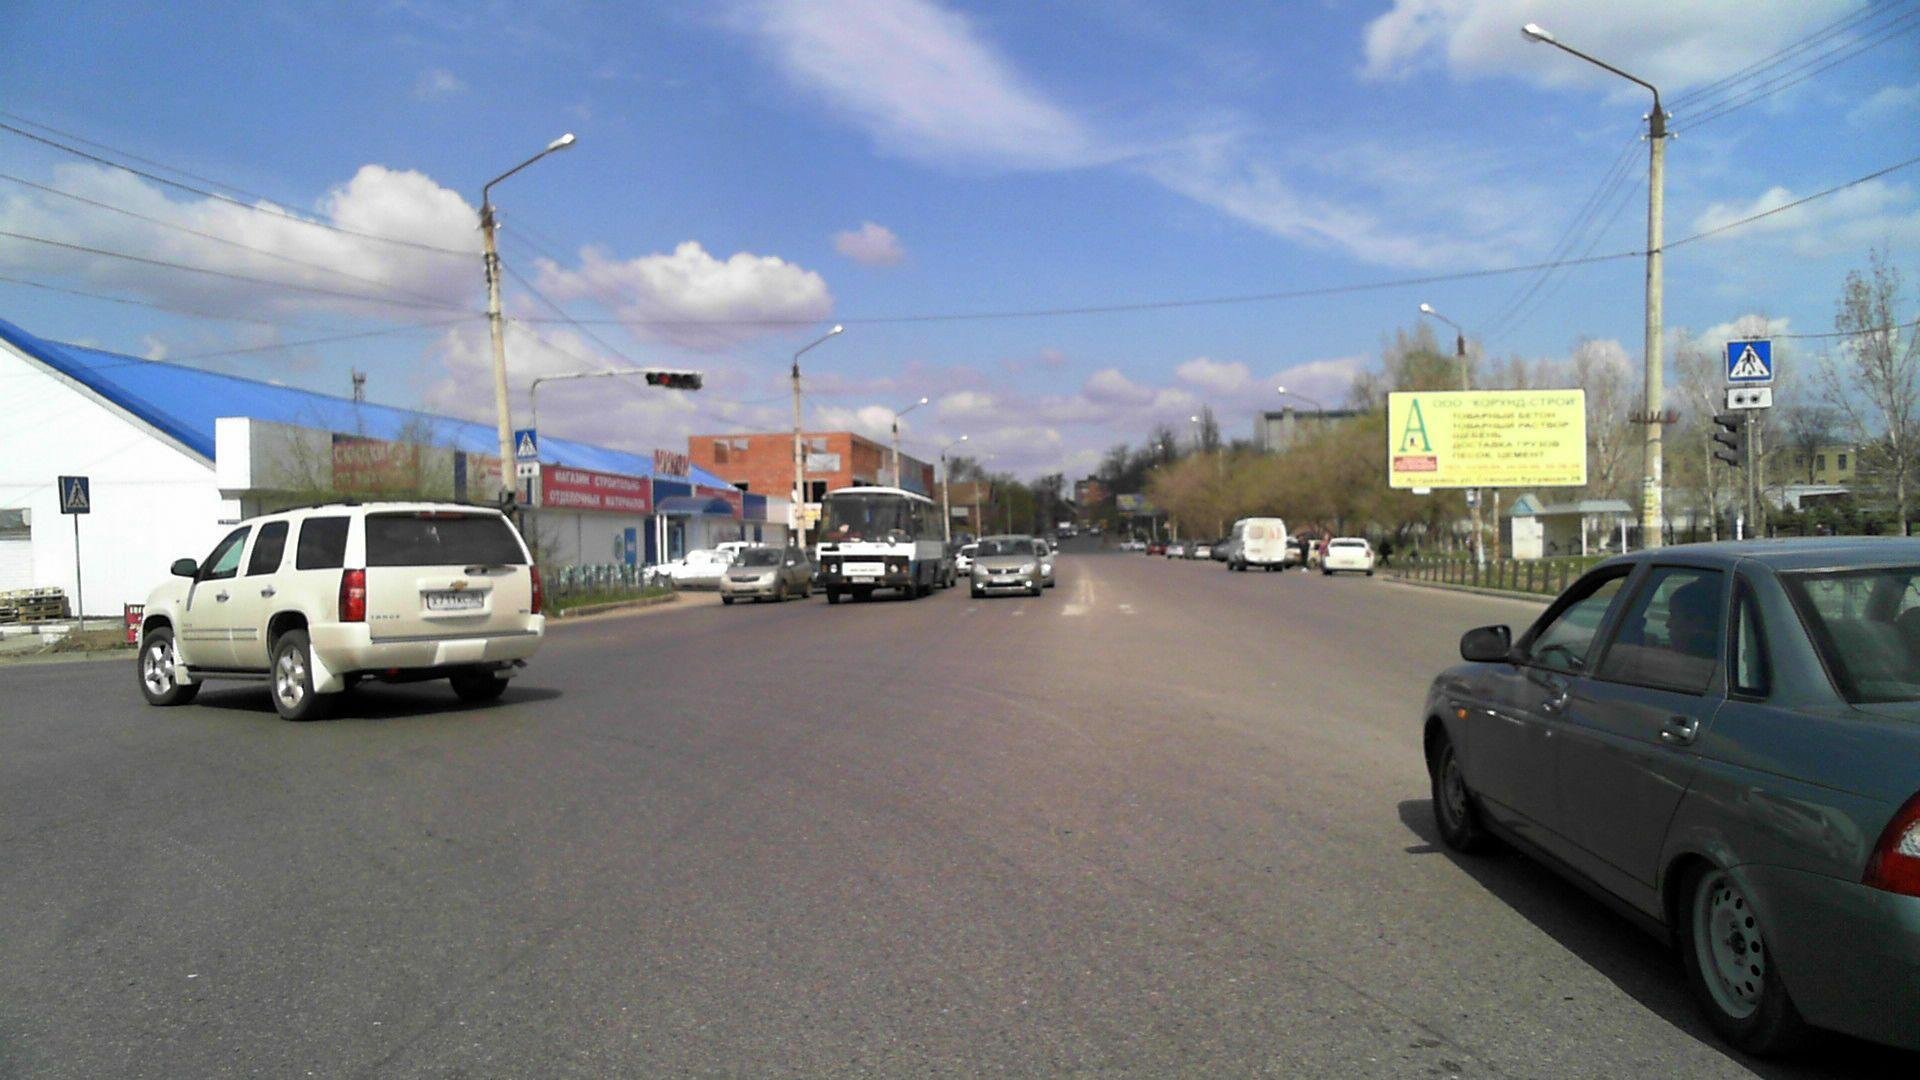5_19_1: (1724, 339, 1774, 382)
5_19_2: (516, 429, 539, 460)
8_15: (1725, 386, 1771, 409), (513, 460, 542, 479)
